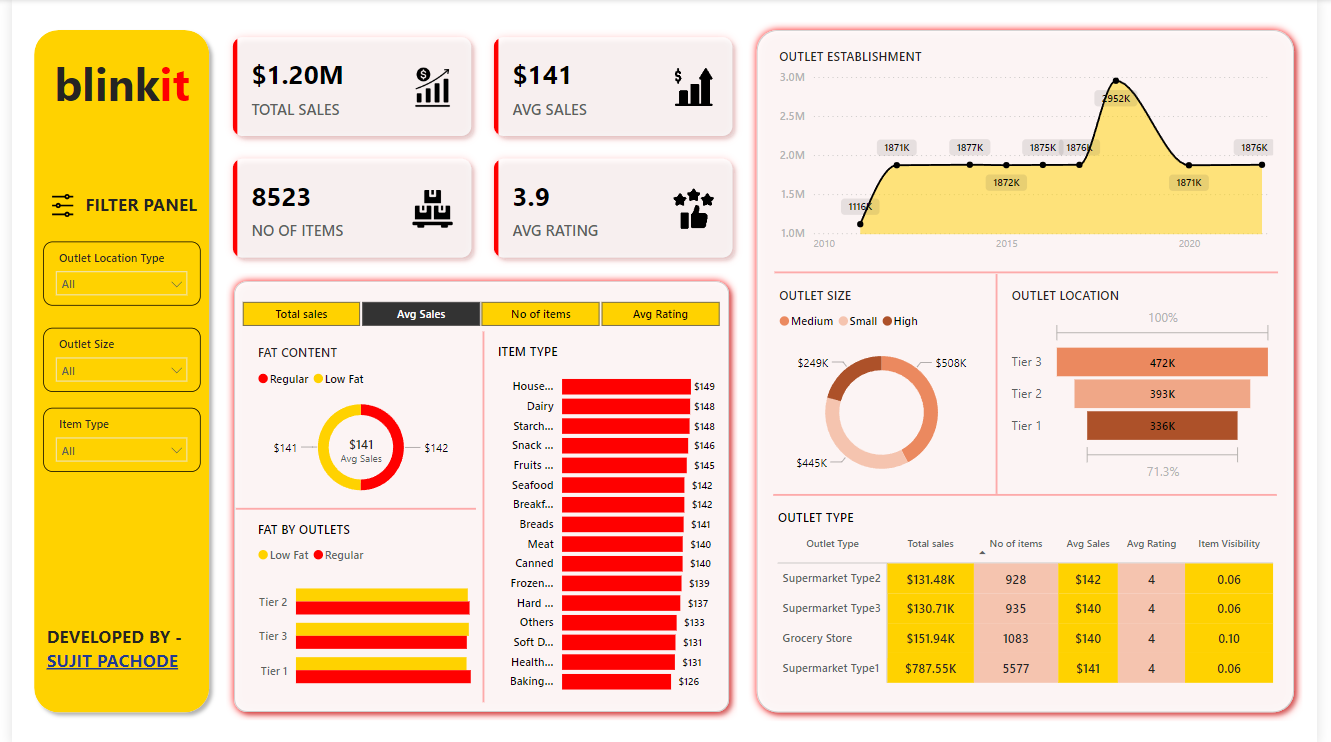

Layout of this report page (visuals, bound fields, positions):
{"tool":"powerbi","page":{"name":"Page 1","canvas":[1400,800],"ordinal":0},"visuals":[{"type":"shape","box":[14.3,24.3,205.7,750],"z":0},{"type":"textbox","box":[15,52.5,206.2,93.8],"z":1000},{"type":"cardVisual","fields":{"Data":["BlinkIT Grocery Data.Total sales","BlinkIT Grocery Data.Avg Sales","BlinkIT Grocery Data.No of items","BlinkIT Grocery Data.Avg Rating"]},"box":[220,23.8,570,270],"z":2000},{"type":"shape","box":[228.8,293.8,548.8,480],"z":3000},{"type":"donutChart","title":"FAT CONTENT","fields":{"Y":["BlinkIT Grocery Data.Avg Sales"],"Category":["BlinkIT Grocery Data.Item Fat Content"]},"box":[258.8,370,231.2,176.2],"z":4000},{"type":"slicer","fields":{"Values":["Metrics.Metrics"]},"box":[221.4,317.1,561.4,40],"z":5000},{"type":"cardVisual","fields":{"Data":["BlinkIT Grocery Data.Avg Sales"]},"box":[320,438.6,108.6,90],"z":6000},{"type":"clusteredBarChart","title":"FAT BY OUTLETS","fields":{"Y":["BlinkIT Grocery Data.Avg Sales"],"Category":["BlinkIT Grocery Data.Outlet Location Type"],"Series":["BlinkIT Grocery Data.Item Fat Content"]},"box":[258.8,558.8,247.5,196.2],"z":7000},{"type":"shape","box":[240,500,257.8,93.3],"z":8000},{"type":"shape","box":[444.4,356.7,121.1,397.8],"z":9000},{"type":"barChart","title":"ITEM TYPE","fields":{"Y":["BlinkIT Grocery Data.Avg Sales"],"Category":["BlinkIT Grocery Data.Item Type"]},"box":[515.7,368.6,242.9,385.7],"z":10000},{"type":"shape","box":[790,24.3,594.3,750],"z":11000},{"type":"lineChart","title":"OUTLET ESTABLISHMENT","fields":{"Y":["Sum(BlinkIT Grocery Data.Outlet Establishment Year)"],"Category":["BlinkIT Grocery Data.Outlet Establishment Year"]},"box":[817.1,52.9,540,227.1],"z":12000},{"type":"shape","box":[817.1,158.6,540,270],"z":13000},{"type":"donutChart","title":"OUTLET SIZE","fields":{"Y":["BlinkIT Grocery Data.Total sales"],"Category":["BlinkIT Grocery Data.Outlet Size"]},"box":[817.5,308.8,230,225],"z":14000},{"type":"funnel","title":"OUTLET LOCATION","fields":{"Y":["Sum(BlinkIT Grocery Data.Sales)"],"Category":["BlinkIT Grocery Data.Outlet Location Type"]},"box":[1067.1,308.6,290,212.9],"z":15000},{"type":"shape","box":[816.4,396.4,540,270],"z":16000},{"type":"shape","box":[922.9,294.3,267.1,235.7],"z":17000},{"type":"pivotTable","title":"OUTLET TYPE","fields":{"Rows":["BlinkIT Grocery Data.Outlet Type"],"Values":["BlinkIT Grocery Data.Total sales","BlinkIT Grocery Data.No of items","BlinkIT Grocery Data.Avg Sales","BlinkIT Grocery Data.Avg Rating","Avg(BlinkIT Grocery Data.Item Visibility)"]},"box":[816.2,546.2,567.5,210],"z":18000},{"type":"slicer","fields":{"Values":["BlinkIT Grocery Data.Outlet Location Type"]},"box":[32.9,260,168.6,68.6],"z":19000},{"type":"slicer","fields":{"Values":["BlinkIT Grocery Data.Outlet Size"]},"box":[32.9,352.9,168.6,68.6],"z":20000},{"type":"slicer","fields":{"Values":["BlinkIT Grocery Data.Item Type"]},"box":[32.9,438.6,168.6,68.6],"z":21000},{"type":"textbox","box":[74,202,206.7,47.3],"z":22000},{"type":"image","box":[32.9,201.8,41.2,40.6],"z":23000},{"type":"textbox","box":[32.5,666.2,207.5,61.2],"z":24000}]}

Visuals, with their boxes in screenshot pixels (x1, y1, x2, y2), scaled from the page's 1400x800 canvas onto the 1331x742 screenshot:
shape: box=[14, 23, 209, 718]
textbox: box=[14, 49, 210, 136]
cardVisual - BlinkIT Grocery Data.Total sales x BlinkIT Grocery Data.Avg Sales: box=[209, 22, 751, 272]
shape: box=[218, 272, 739, 718]
"FAT CONTENT" donutChart: box=[246, 343, 466, 507]
slicer - Metrics.Metrics: box=[210, 294, 744, 331]
cardVisual - BlinkIT Grocery Data.Avg Sales: box=[304, 407, 407, 490]
"FAT BY OUTLETS" clusteredBarChart: box=[246, 518, 481, 700]
shape: box=[228, 464, 473, 550]
shape: box=[422, 331, 538, 700]
"ITEM TYPE" barChart: box=[490, 342, 721, 700]
shape: box=[751, 23, 1316, 718]
"OUTLET ESTABLISHMENT" lineChart: box=[777, 49, 1290, 260]
shape: box=[777, 147, 1290, 398]
"OUTLET SIZE" donutChart: box=[777, 286, 996, 495]
"OUTLET LOCATION" funnel: box=[1015, 286, 1290, 484]
shape: box=[776, 368, 1290, 618]
shape: box=[877, 273, 1131, 492]
"OUTLET TYPE" pivotTable: box=[776, 507, 1316, 701]
slicer - BlinkIT Grocery Data.Outlet Location Type: box=[31, 241, 192, 305]
slicer - BlinkIT Grocery Data.Outlet Size: box=[31, 327, 192, 391]
slicer - BlinkIT Grocery Data.Item Type: box=[31, 407, 192, 470]
textbox: box=[70, 187, 267, 231]
image: box=[31, 187, 70, 225]
textbox: box=[31, 618, 228, 675]
